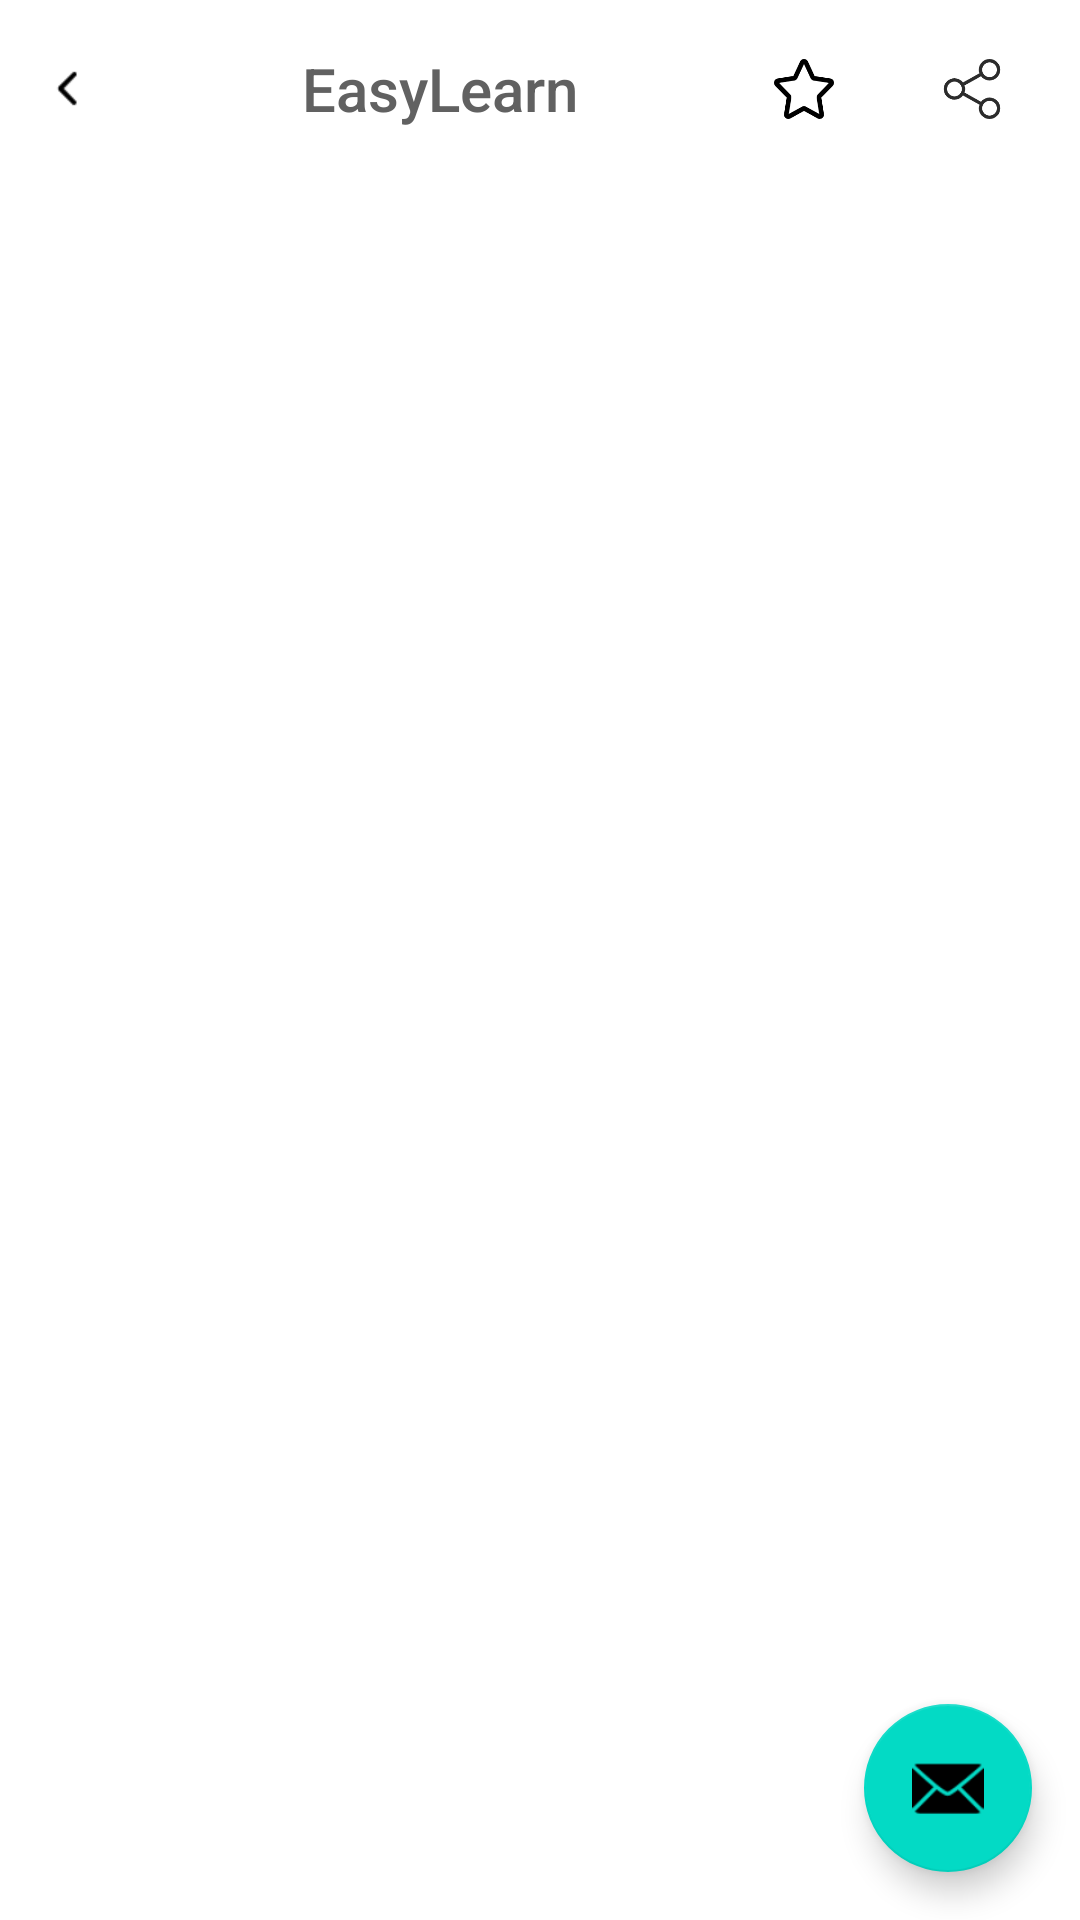

Locate icon controls on the screen. Image size 1080w x 1920h, boxes as bbox=[x1, y1, x2, y2].
back: bbox=[57, 71, 77, 106]
email: bbox=[864, 1704, 1032, 1872]
share: bbox=[944, 59, 1001, 119]
star blank: bbox=[774, 59, 834, 119]
